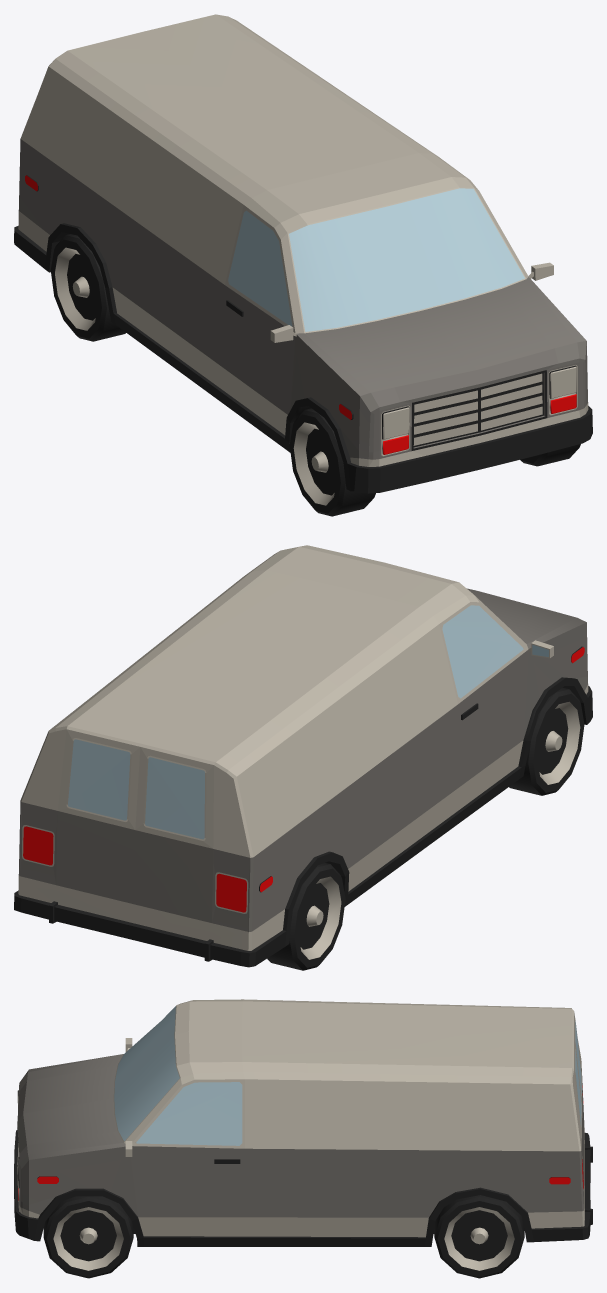
File: N Van_10.fbx
3 views of the same model, one above another, from view 1: azimuth 30°, elevation 25°; view 2: azimuth 150°, elevation 25°; view 3: azimuth 270°, elevation 25° (orthographic). The views are drawn at different scales.
Parts seen in each view (by area): view 1: N Van_10; view 2: N Van_10; view 3: N Van_10.
Boxes of the visible parts, x1,y1,x2,y2 form: N Van_10: [14, 14, 592, 516]; N Van_10: [14, 545, 592, 970]; N Van_10: [14, 999, 592, 1278].
Bounding box in the file's own units: 229 × 192 × 504.
1 material, 1 textured.
